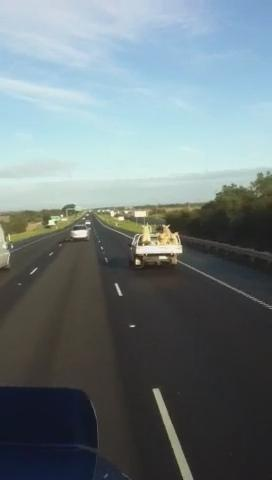car: (70, 224, 90, 241), (85, 220, 91, 225), (86, 214, 90, 216), (82, 218, 86, 220)
truck: (128, 233, 182, 268), (0, 221, 13, 270)
